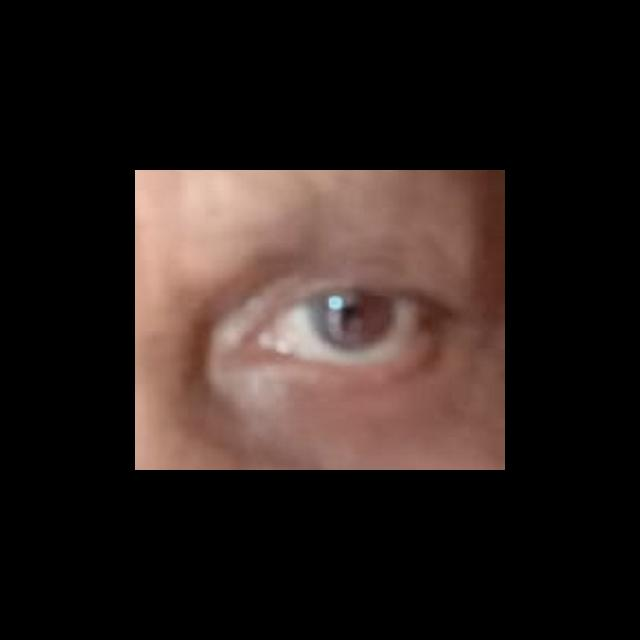eye: (267, 292, 420, 363)
iris: (312, 295, 395, 349)
